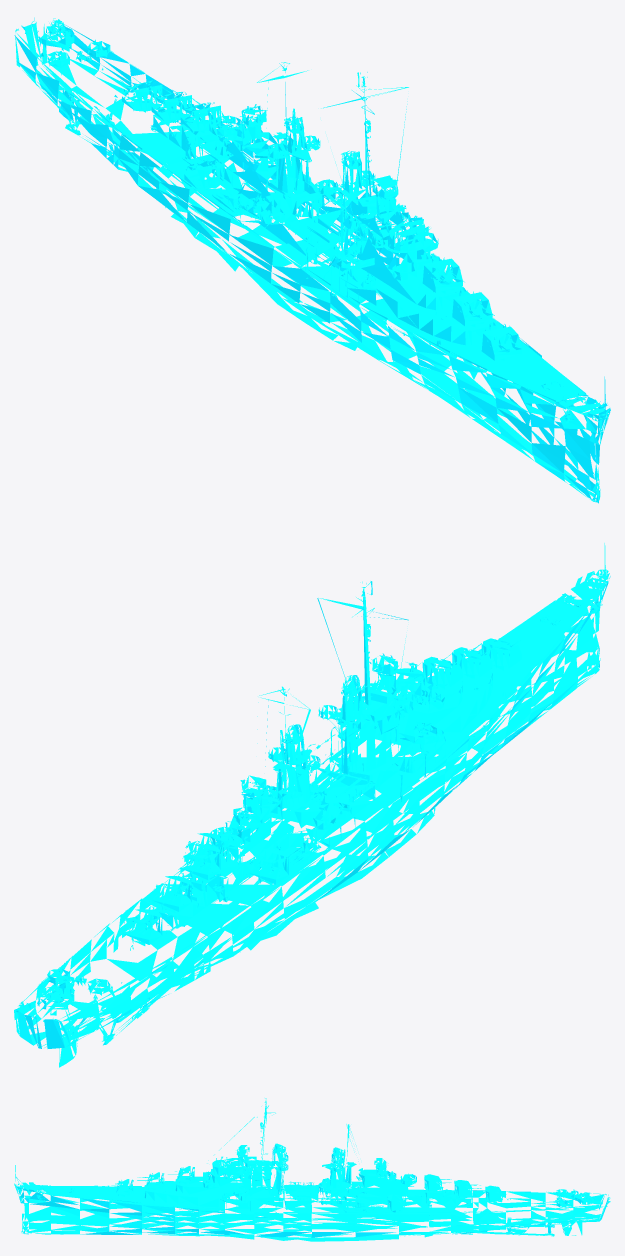
File: Atlanta.glb
3 views of the same model, one above another, from view 1: azimuth 30°, elevation 25°; view 2: azimuth 150°, elevation 25°; view 3: azimuth 270°, elevation 25° (orthographic). The views are drawn at different scales.
Size of the model in its own units: 1.09 by 2.82 by 11.05.
